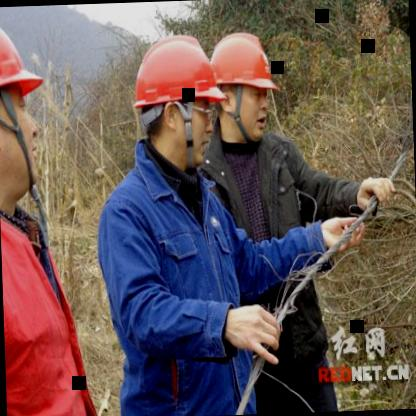helmet: (127, 24, 221, 179), (0, 17, 60, 227), (207, 22, 288, 150)
